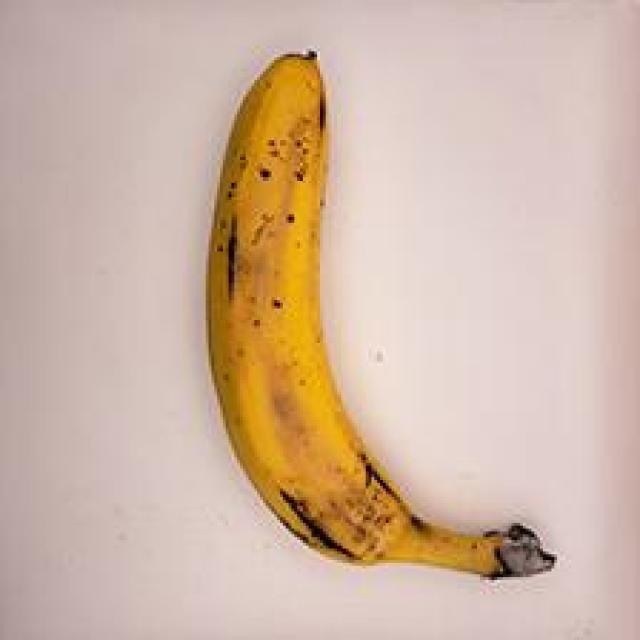Overripe: (143, 26, 580, 615)
